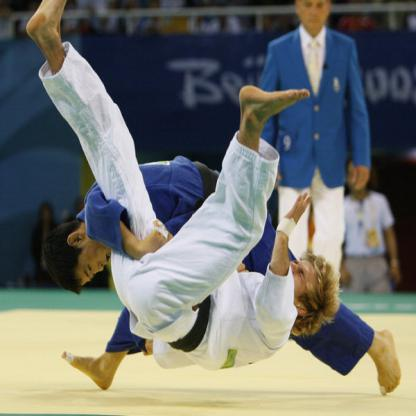Fall_Down: (25, 1, 337, 365)
